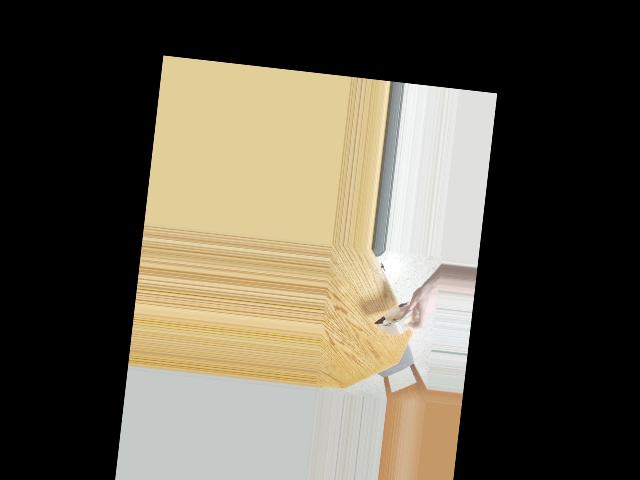cheese: (377, 293, 422, 347)
